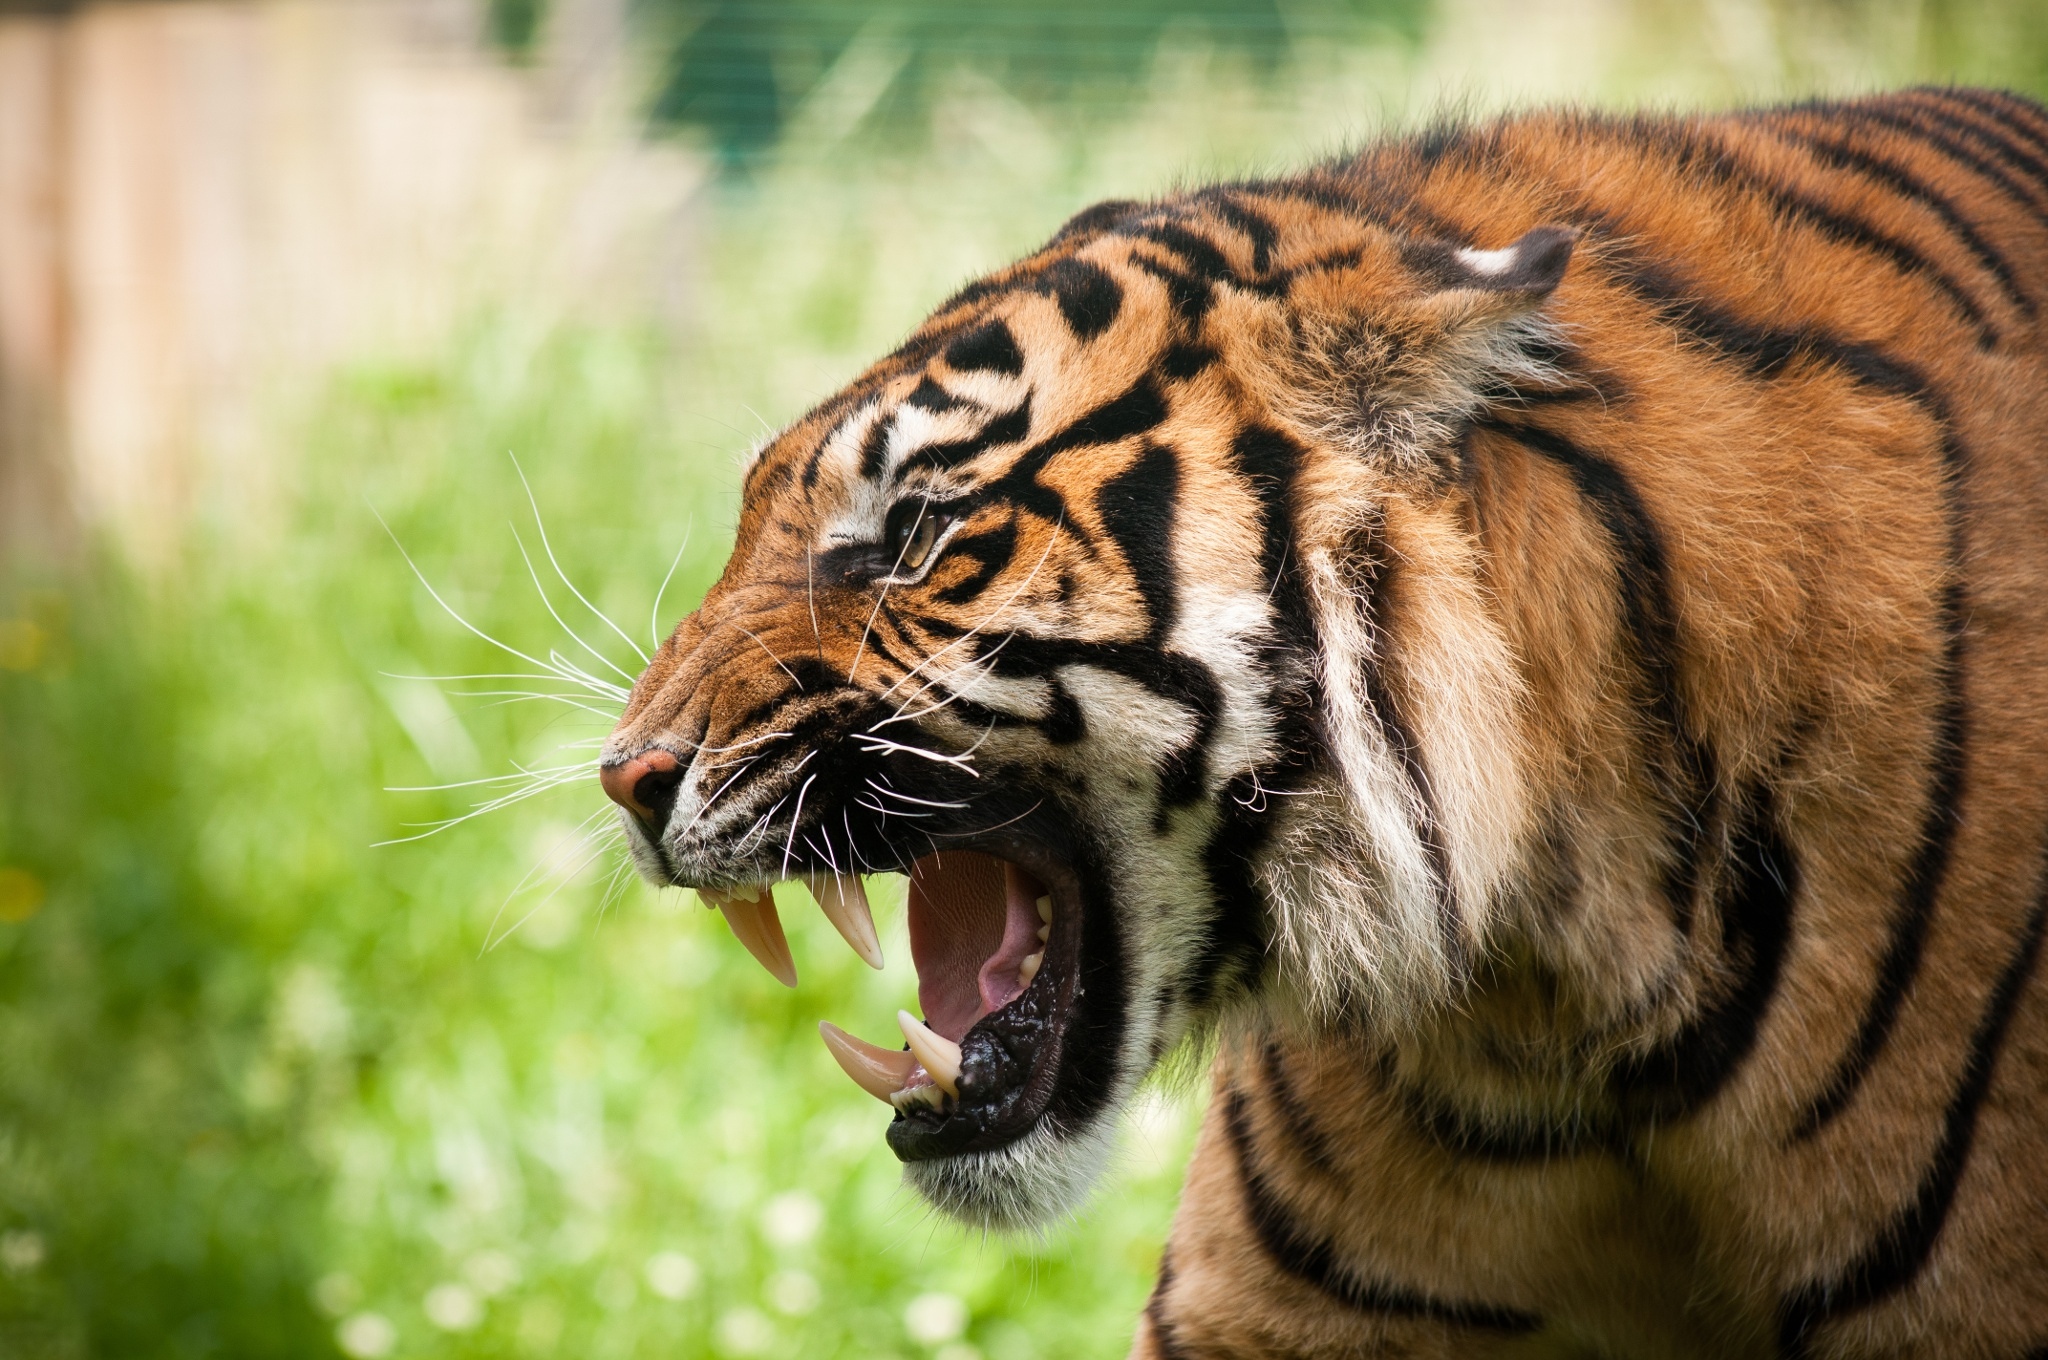tiger: (614, 115, 1940, 1255)
